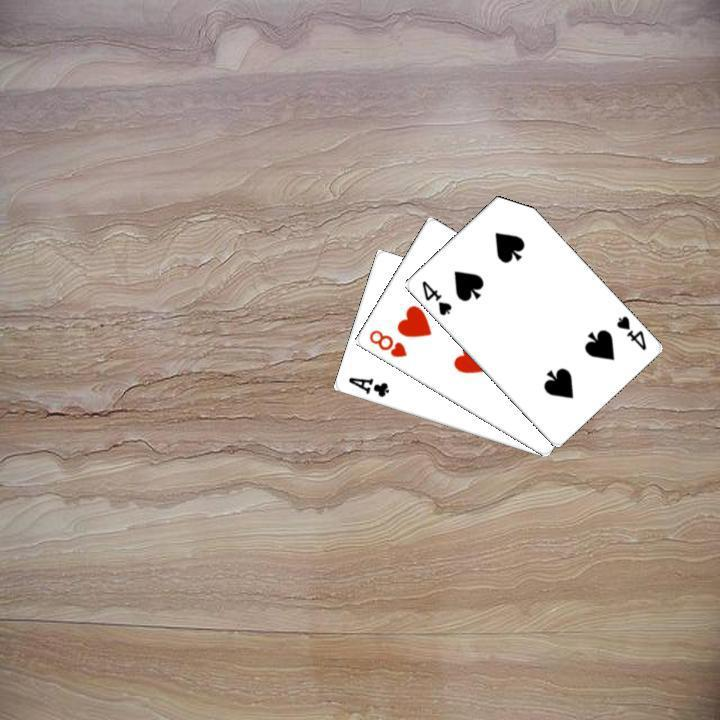4: (611, 311, 648, 352), (417, 276, 453, 317)
8: (364, 325, 408, 359)
A: (344, 373, 391, 399)
